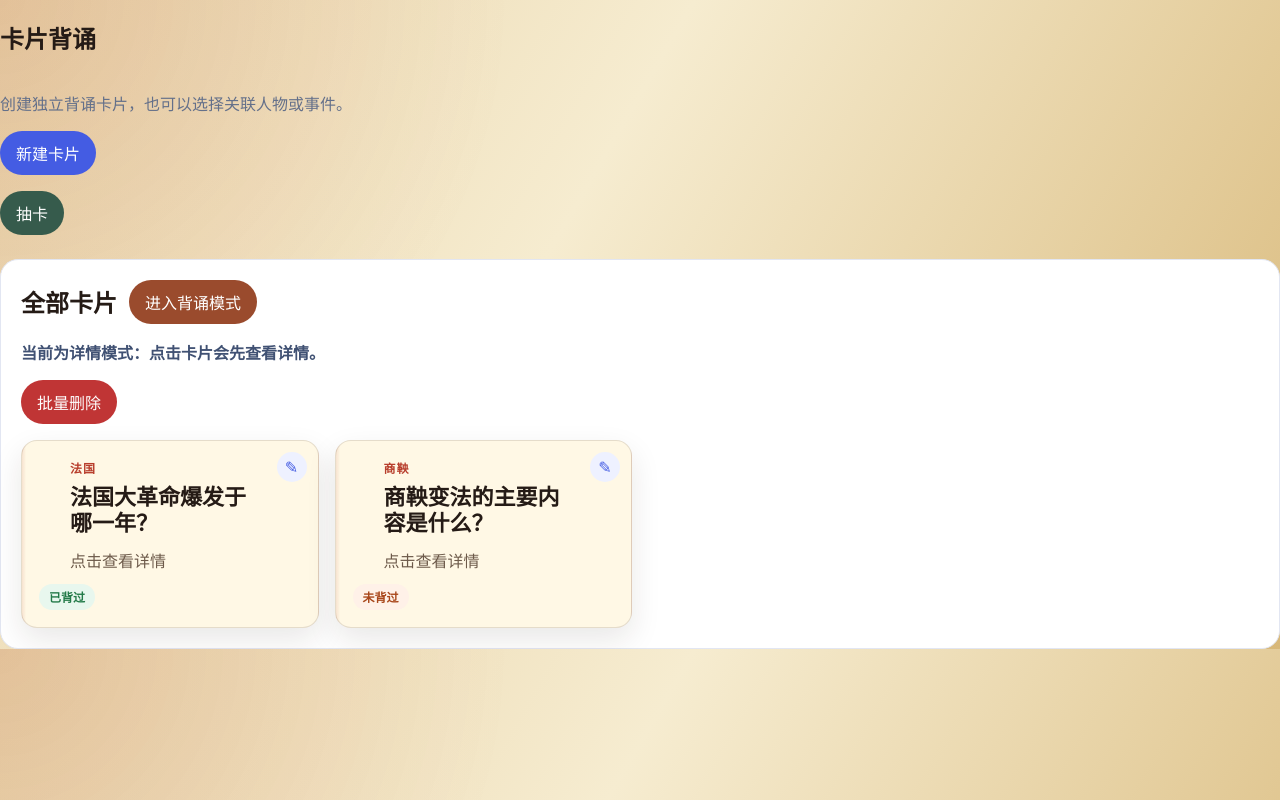
Test: FlashcardPage › draws only forgotten cards when range is forgotten
Click the button with test id "toggle-draw-form". click: (32, 213)
box: [0,191,64,235]
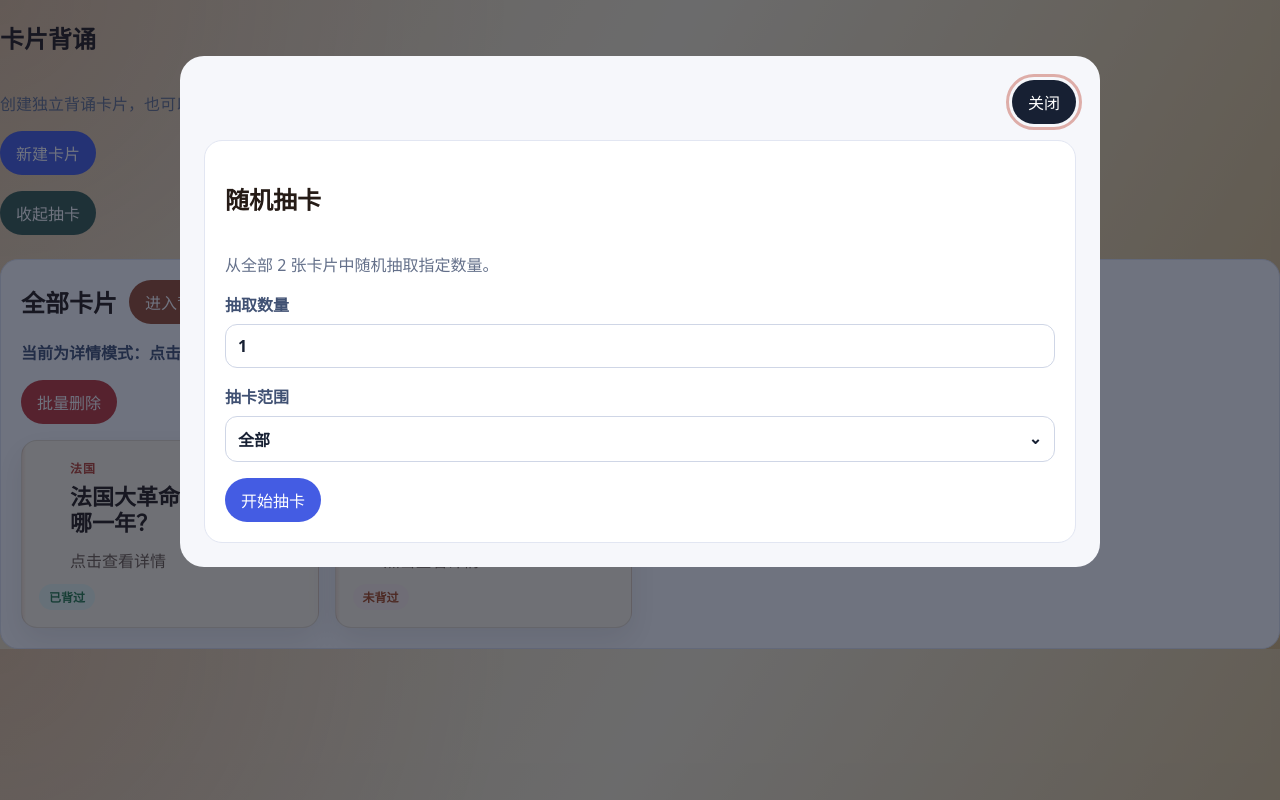
Click the button with test id "draw-range-toggle". click: (254, 440)
box: [225,416,1055,462]
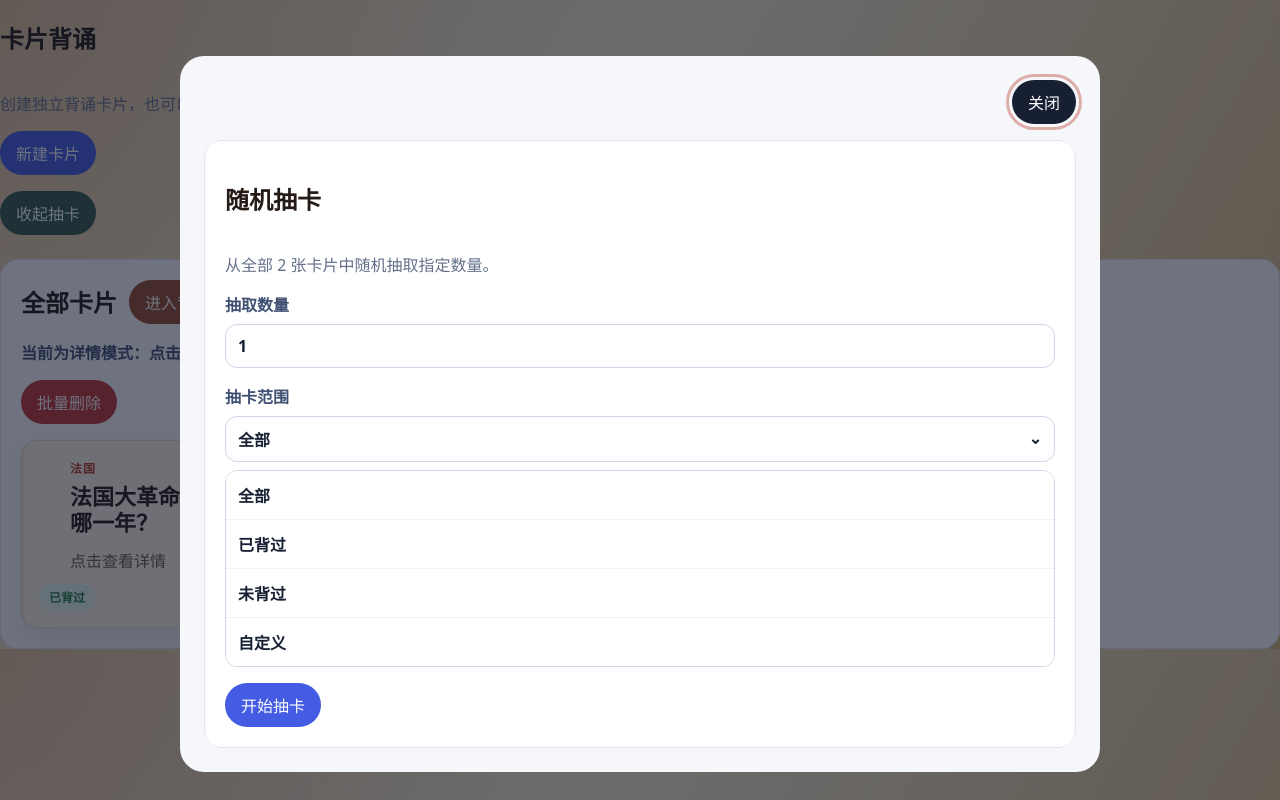
Click the button with test id "draw-range-forgotten". click: (262, 594)
box: [226,569,1054,618]
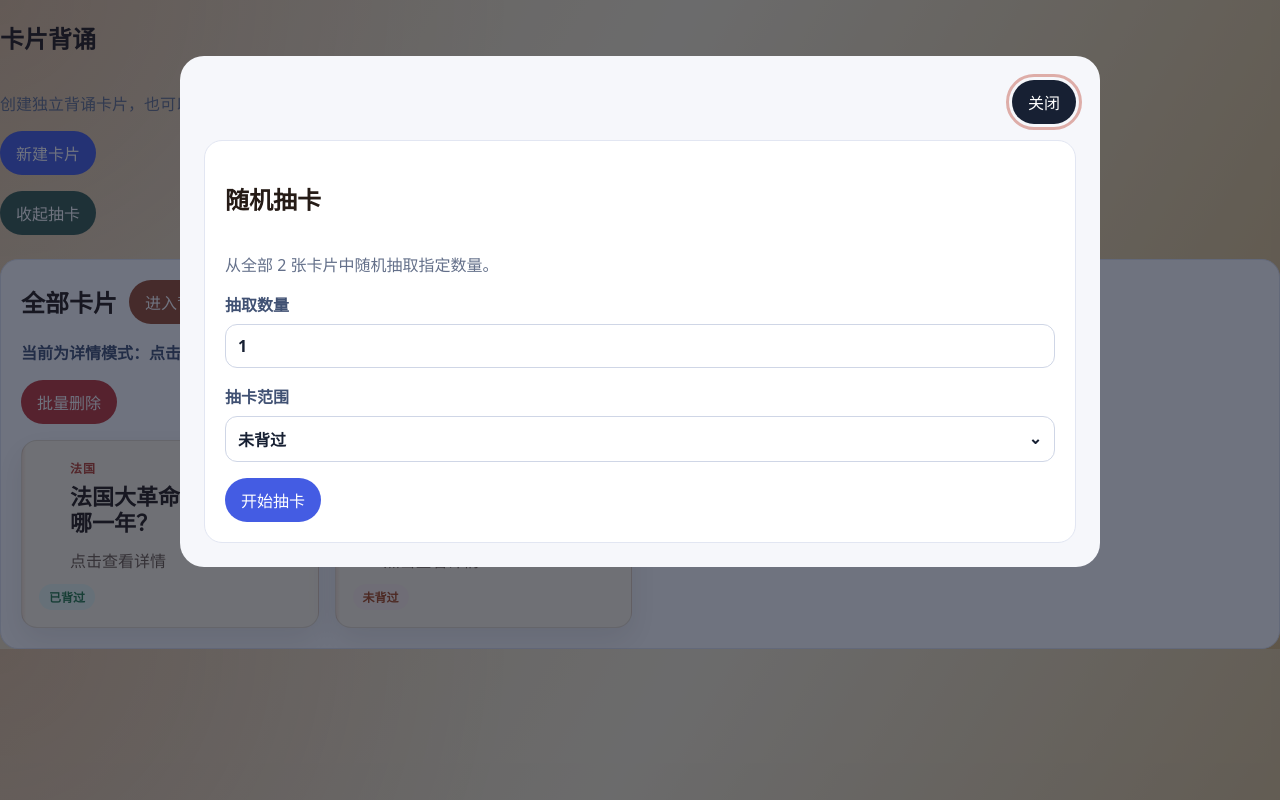
Submit the form with test id "draw-form", box [204,140,1076,543]
(page scrolled)
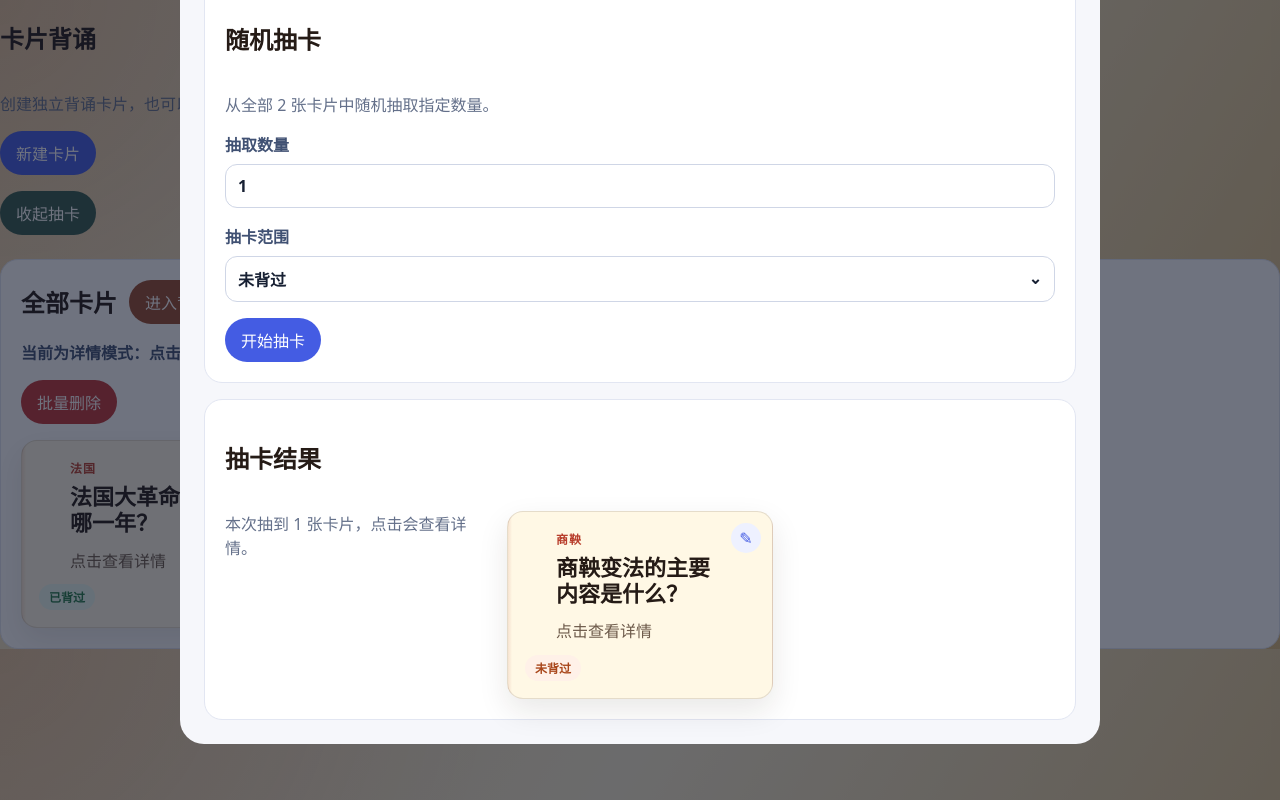
Expected: the element with test id "drawn-card-list" does not show "法国大革命爆发于哪一年？"
Now the element with test id "drawn-card-list" shows "商鞅变法的主要内容是什么？", box [556,556,710,607]
